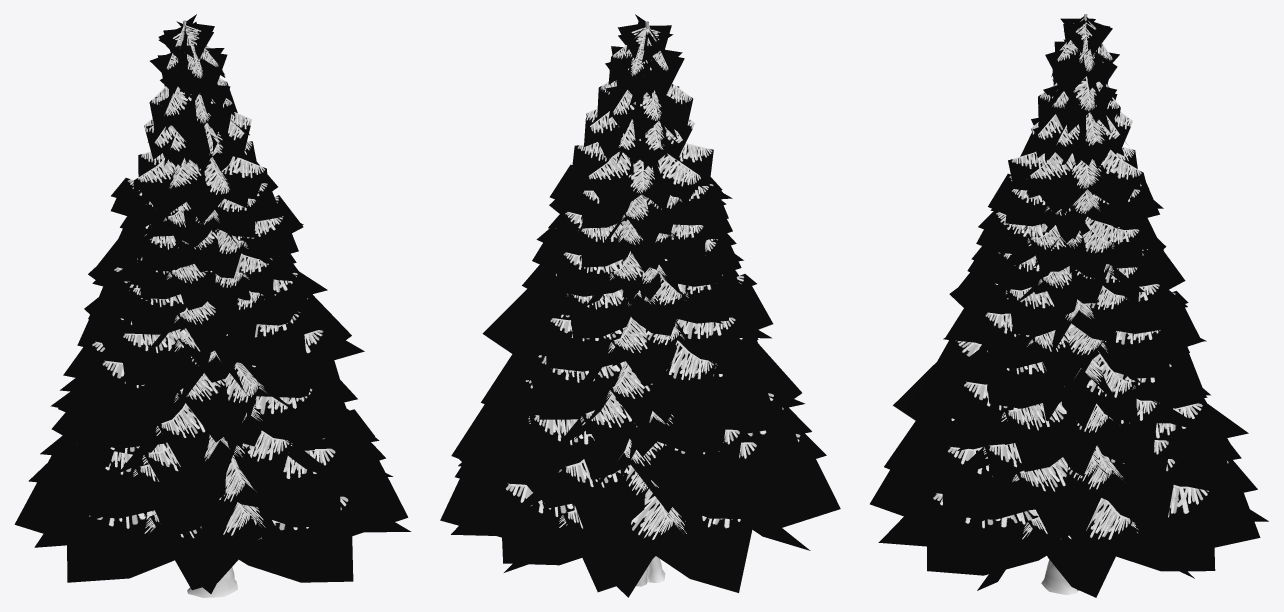
The model's file is Spruce 1.fbx.
3 views of the same model, side by side, from view 1: azimuth 30°, elevation 25°; view 2: azimuth 150°, elevation 25°; view 3: azimuth 270°, elevation 25° (orthographic).
Parts seen in each view (by area): view 1: Spruce 1_LOD0; view 2: Spruce 1_LOD0; view 3: Spruce 1_LOD0.
Boxes of the visible parts, box(x1,y1,x2,y2) form: Spruce 1_LOD0: box(14, 14, 411, 597); Spruce 1_LOD0: box(440, 14, 840, 597); Spruce 1_LOD0: box(870, 14, 1268, 597).
Size of what is drawn, in the model's own units: 790 by 1247 by 807.
